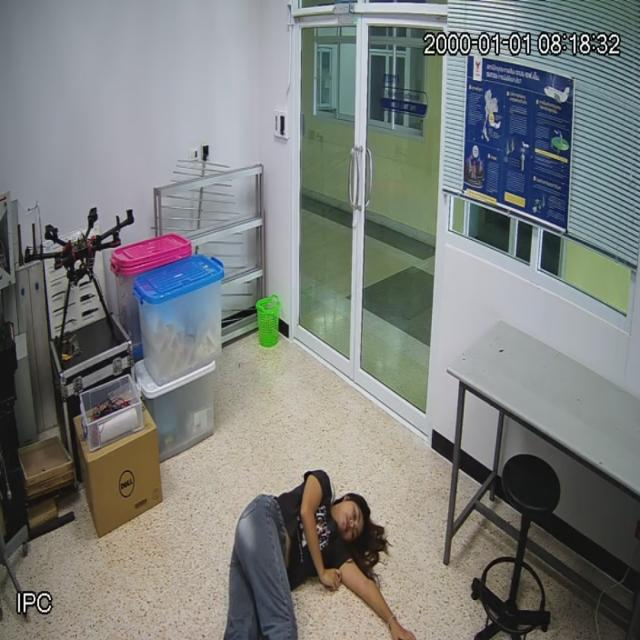fall: (219, 447, 397, 640)
